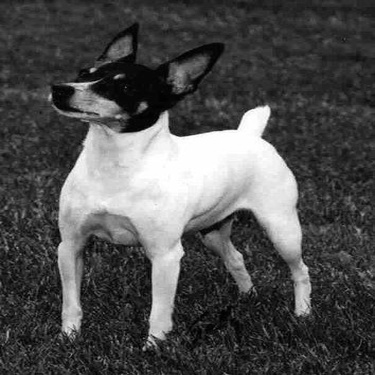dog: (33, 16, 316, 356)
